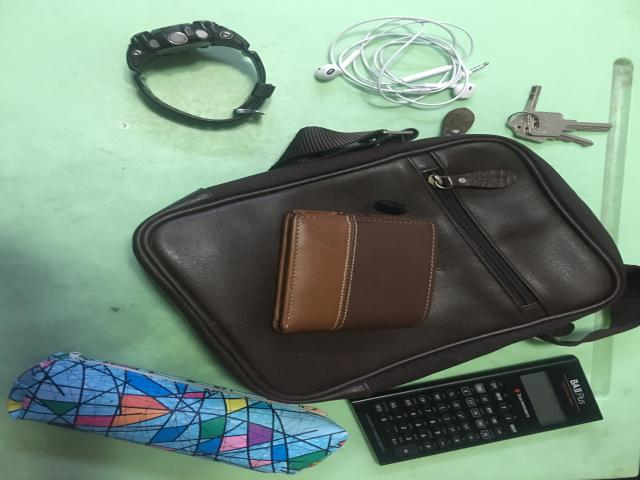Keys: (508, 85, 612, 146)
Wallet: (273, 210, 437, 333)
Watch: (127, 21, 275, 123)
wire: (315, 17, 487, 106)
